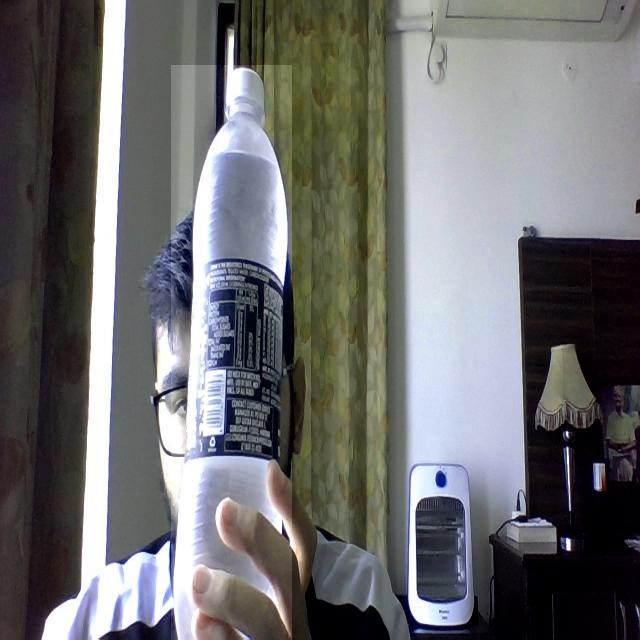full-bottle: (171, 65, 292, 640)
